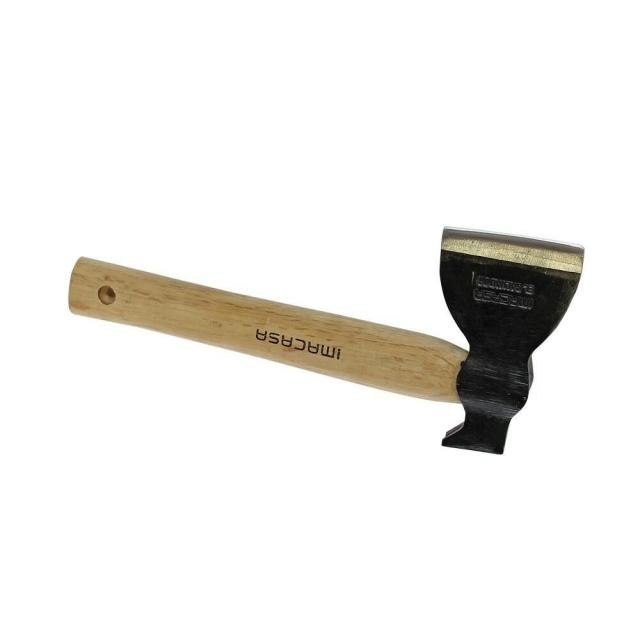Kapak: (40, 214, 539, 440)
